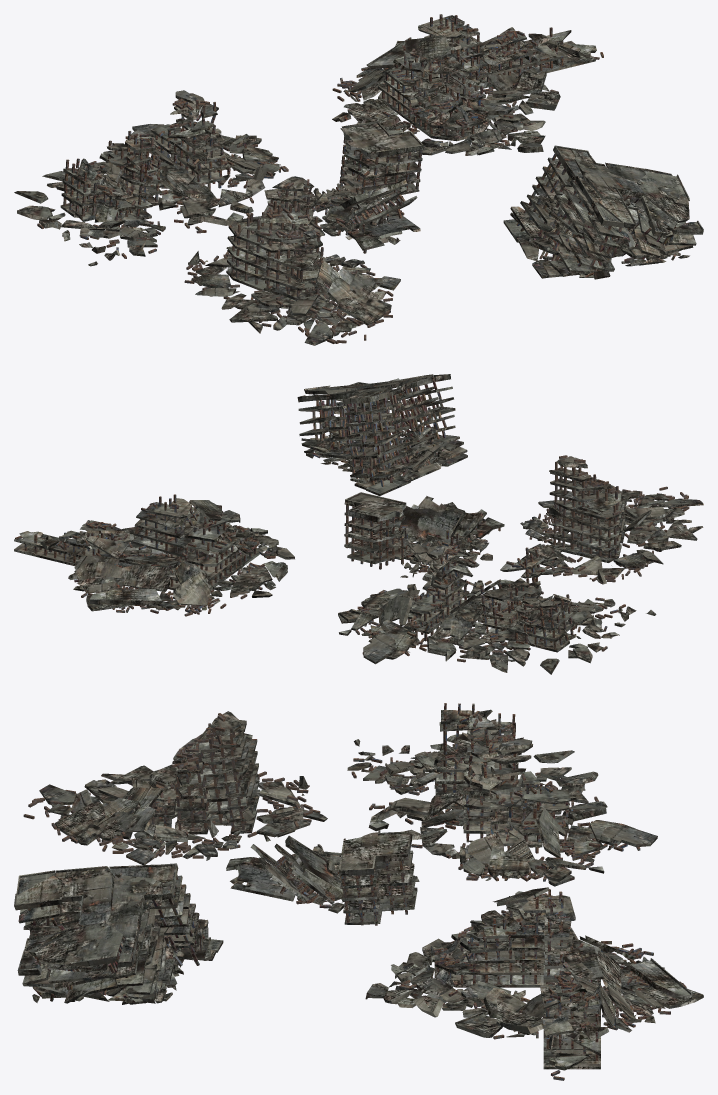
Rendered from ruins.glb.
3 renders of one model, top to bottom at view 1: azimuth 30°, elevation 25°; view 2: azimuth 150°, elevation 25°; view 3: azimuth 270°, elevation 25°, orthographic. The views are drawn at different scales.
Parts seen in each view (by area): view 1: ruim.009_conc_0, ruim.009_rust_0; view 2: ruim.009_conc_0, ruim.009_rust_0; view 3: ruim.009_conc_0, ruim.009_rust_0.
Part boxes in pixels (bbox=[...]): ruim.009_conc_0: bbox=[14, 15, 703, 345]; ruim.009_rust_0: bbox=[37, 14, 676, 343]; ruim.009_conc_0: bbox=[14, 374, 703, 674]; ruim.009_rust_0: bbox=[15, 382, 689, 662]; ruim.009_conc_0: bbox=[14, 709, 703, 1070]; ruim.009_rust_0: bbox=[23, 703, 686, 1080].
Bounding box in the file's own units: 309 × 47.06 × 265.
Materials: 2 (2 with a texture image).
